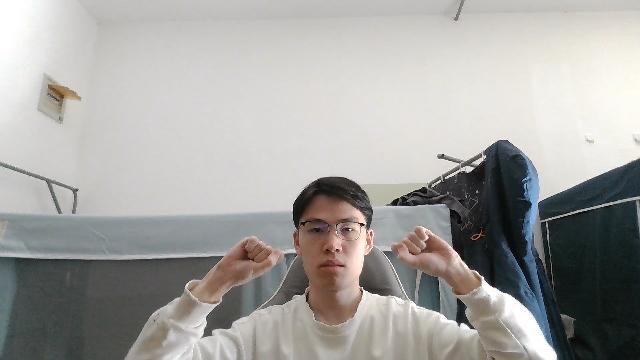ten: (388, 224, 473, 285), (203, 235, 285, 293)
